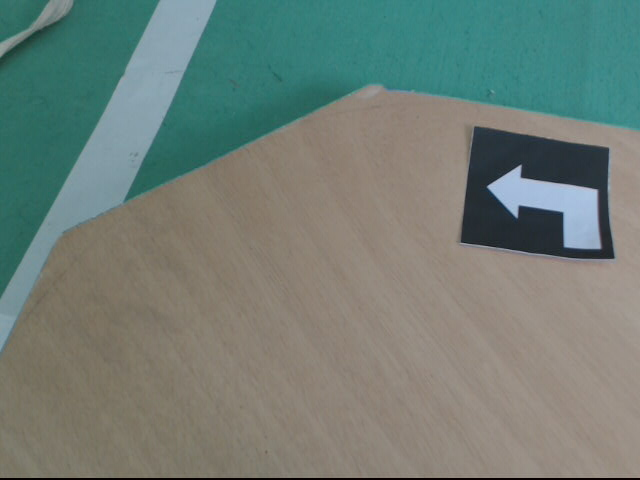left: (460, 126, 614, 262)
